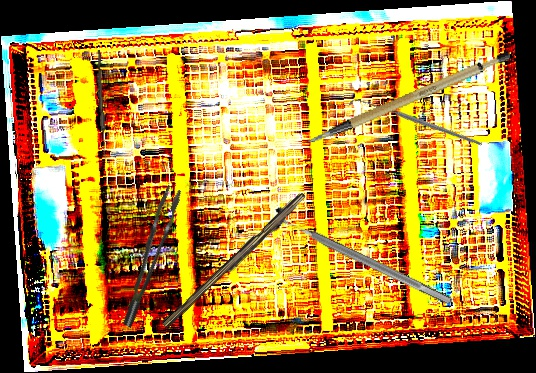Fixation Ring: (263, 203, 459, 316)
Hook Surgical: (348, 53, 484, 194)
Scalpel Handle: (296, 48, 519, 145), (161, 189, 309, 333)
Surgical Spoon: (95, 49, 108, 160)
Tissue Forceps: (104, 184, 195, 329)
